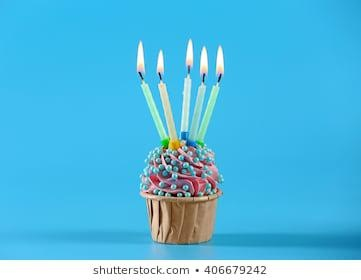fire: (135, 39, 146, 77), (154, 47, 164, 76)
